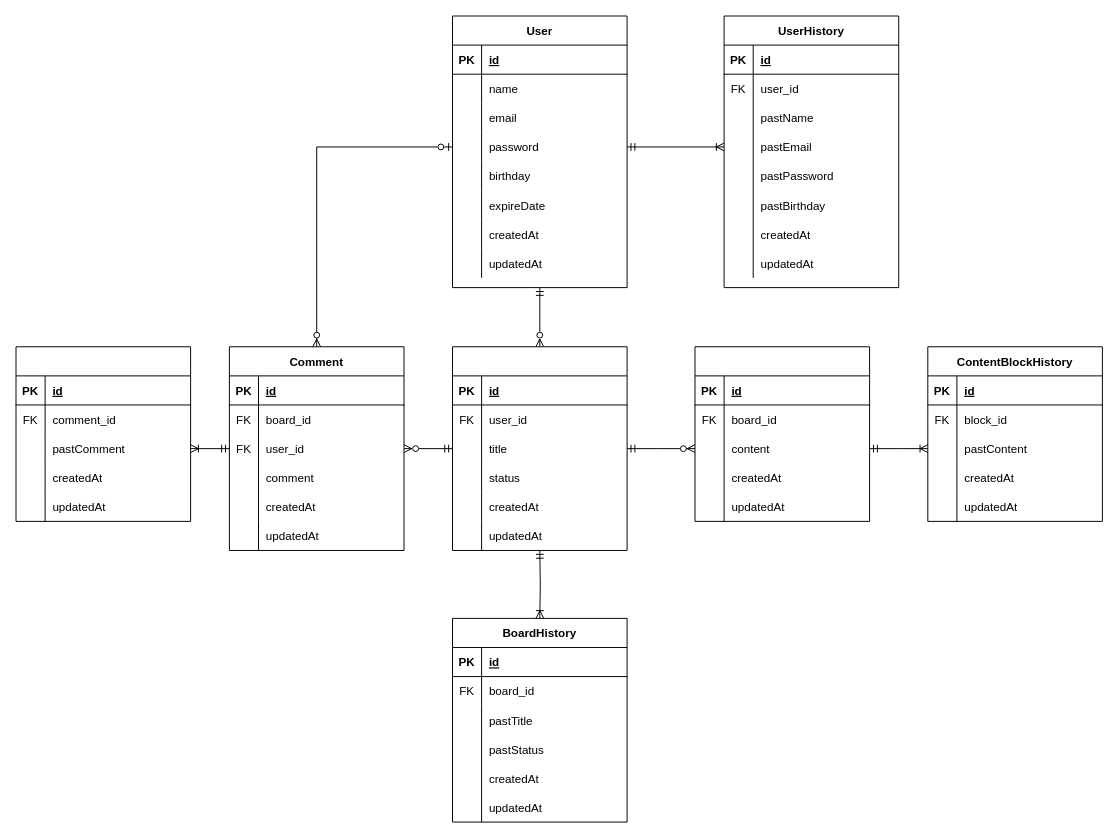
Image size: 1118x838. Some labels were removed from this diagram. Each missing label, with the box of its shape:
Board: (452, 346, 627, 550)
CommentHistory: (15, 346, 191, 521)
ContentBlock: (694, 346, 870, 521)
